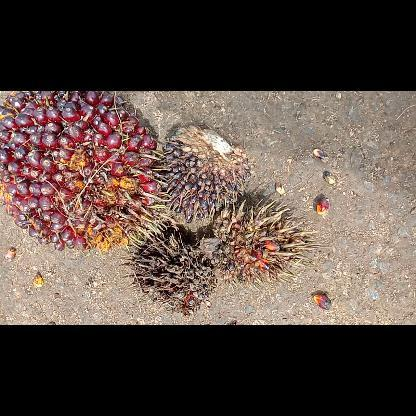TBS abnormal: (161, 124, 247, 218), (215, 202, 303, 281), (134, 232, 214, 314)
TBS masak: (0, 90, 159, 248)
